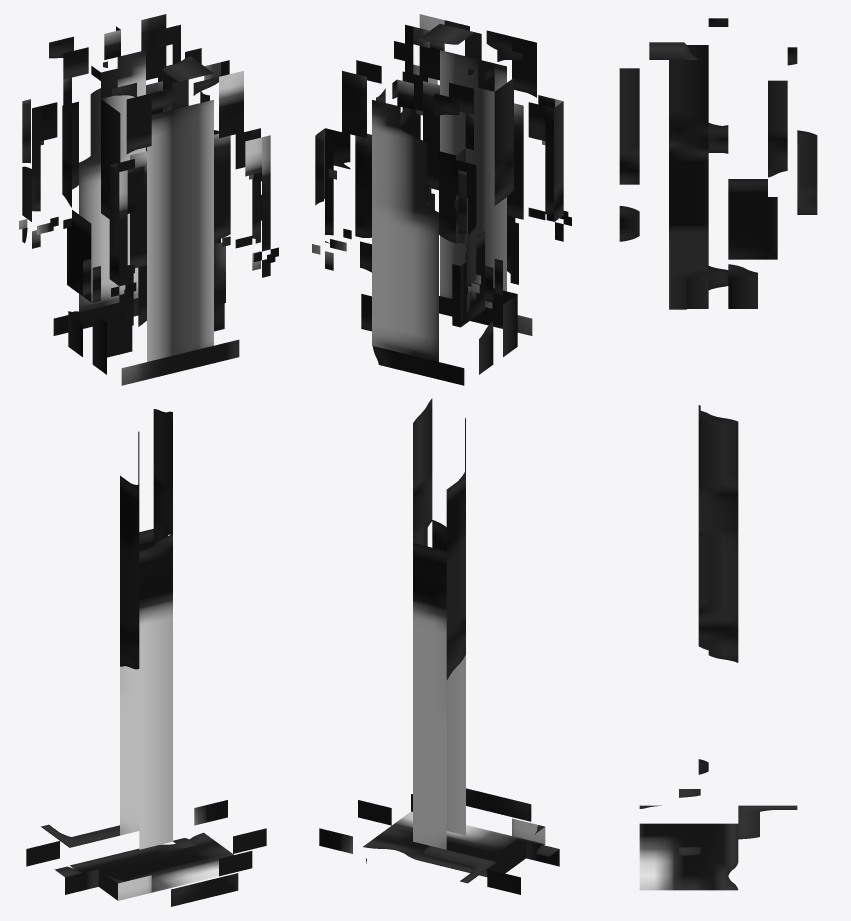
Rendered from Streetlamp2.obj.
3 renders of one model, left to right at view 1: azimuth 30°, elevation 25°; view 2: azimuth 150°, elevation 25°; view 3: azimuth 270°, elevation 25°, orthographic.
Visible parts, largest first — view 1: Model; view 2: Model; view 3: Model.
Part boxes in pixels (bbox=[...]): Model: bbox=[19, 14, 278, 906]; Model: bbox=[312, 14, 571, 894]; Model: bbox=[619, 18, 817, 890].
Size of the model in its own units: 8.44 by 32 by 8.44.
1 material, 1 textured.
